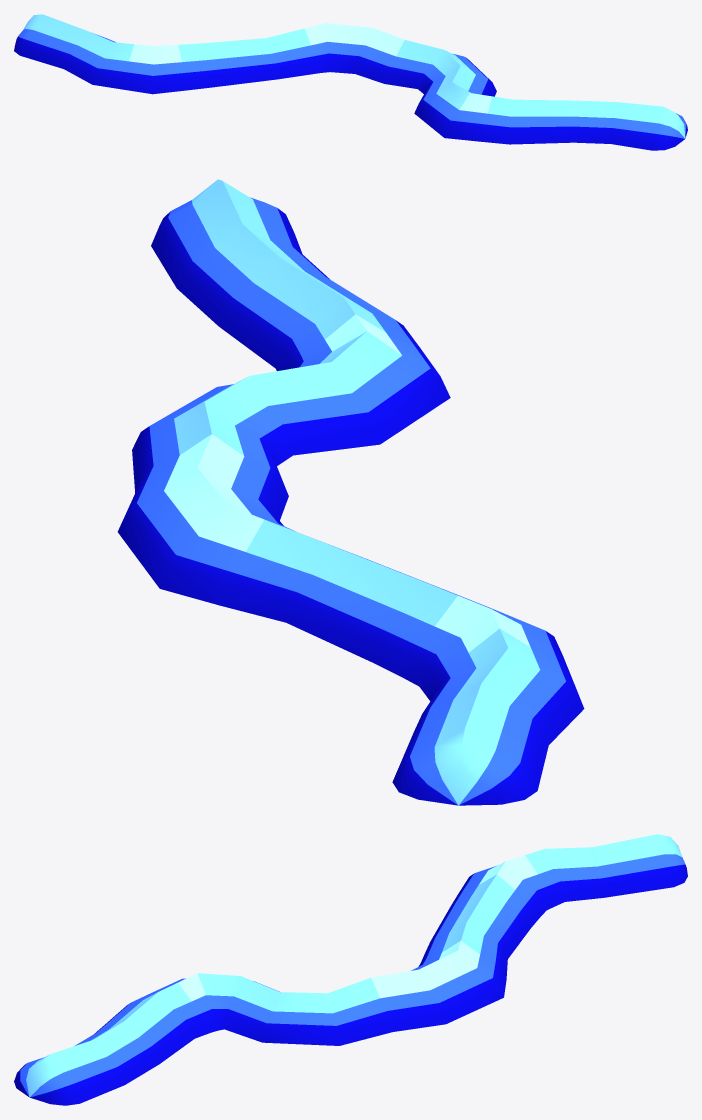
File: shot_lightning_195.glb
3 renders of one model, top to bottom at view 1: azimuth 30°, elevation 25°; view 2: azimuth 150°, elevation 25°; view 3: azimuth 270°, elevation 25°, orthographic. The views are drawn at different scales.
Visible parts, largest first — view 1: shot_lightning_195_0; view 2: shot_lightning_195_0; view 3: shot_lightning_195_0.
Boxes of the visible parts, x1,y1,x2,y2 form: shot_lightning_195_0: (14,14,687,150); shot_lightning_195_0: (117,179,584,805); shot_lightning_195_0: (14,834,687,1105).
Size of the model in its own units: 13.83 by 0.977 by 15.54.
